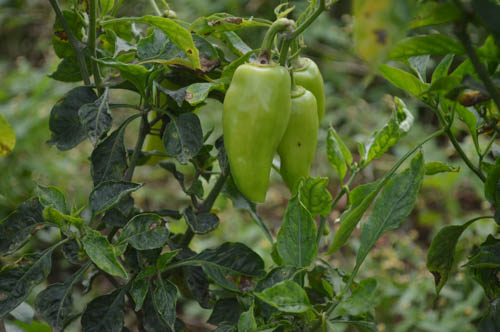ChiliPepper: (222, 66, 287, 209), (276, 90, 317, 197), (290, 60, 326, 126)
